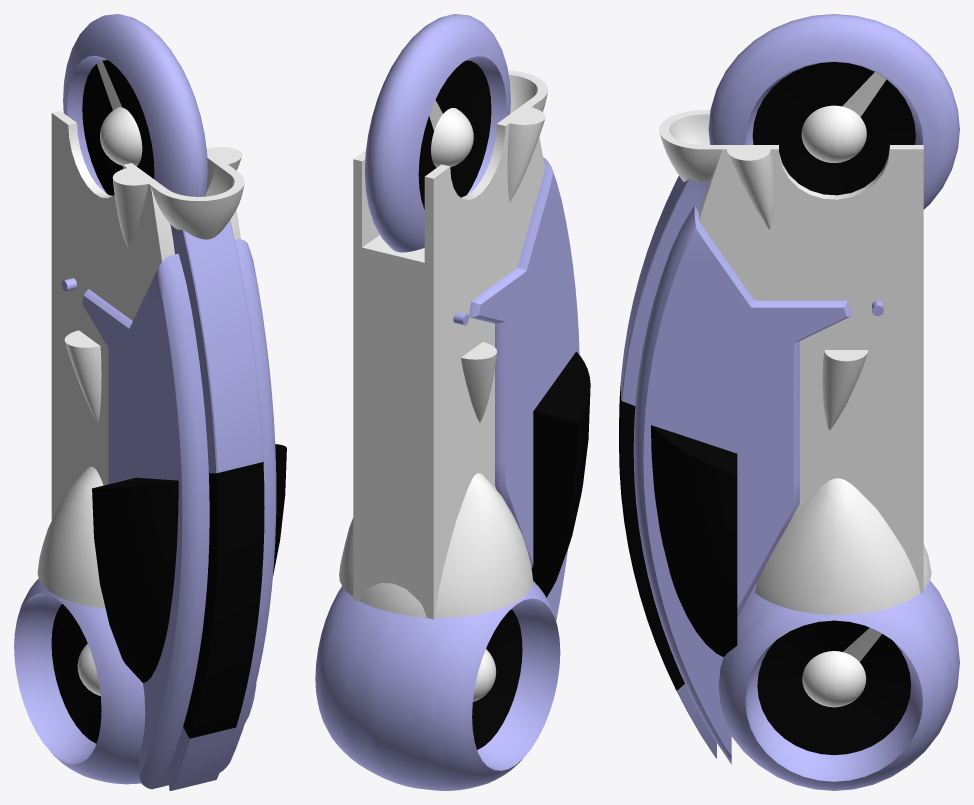
The model's file is lightcycle-ultra-high.fbx.
3 views of the same model, side by side, from view 1: azimuth 30°, elevation 25°; view 2: azimuth 150°, elevation 25°; view 3: azimuth 270°, elevation 25° (orthographic).
Visible parts, largest first — view 1: meshes[0]-54, meshes[0]-24, meshes[0]-12, meshes[0]-33, meshes[0]-0, meshes[0]-34, meshes[0]-35, meshes[0]-30, meshes[0]-32, meshes[0]-17, meshes[0]-5, meshes[0]-41 (+7 smaller); view 2: meshes[0]-24, meshes[0]-12, meshes[0]-54, meshes[0]-0, meshes[0]-30, meshes[0]-33, meshes[0]-32, meshes[0]-17, meshes[0]-5, meshes[0]-11, meshes[0]-7, meshes[0]-3; view 3: meshes[0]-24, meshes[0]-54, meshes[0]-12, meshes[0]-30, meshes[0]-0, meshes[0]-33, meshes[0]-7, meshes[0]-19, meshes[0]-32, meshes[0]-15, meshes[0]-43, meshes[0]-42 (+7 smaller).
Boxes of the visible parts, x1,y1,x2,y2 form: meshes[0]-54: (82,239,276,789); meshes[0]-24: (51,111,240,695); meshes[0]-12: (14,578,256,784); meshes[0]-33: (92,444,286,682); meshes[0]-0: (63,14,207,196); meshes[0]-34: (185,222,262,472); meshes[0]-35: (191,484,263,738); meshes[0]-30: (37,162,244,608); meshes[0]-32: (64,147,242,422); meshes[0]-17: (51,604,101,743); meshes[0]-5: (82,64,154,195); meshes[0]-41: (186,473,217,718); meshes[0]-24: (353,104,544,701); meshes[0]-12: (315,581,560,790); meshes[0]-54: (469,157,579,620); meshes[0]-0: (364,14,510,252); meshes[0]-30: (339,70,547,617); meshes[0]-33: (531,351,590,597); meshes[0]-32: (461,107,545,422); meshes[0]-17: (472,618,522,749); meshes[0]-5: (418,77,491,209); meshes[0]-11: (431,108,473,167); meshes[0]-7: (447,61,481,110); meshes[0]-3: (444,60,485,112); meshes[0]-24: (698,145,923,707); meshes[0]-54: (633,205,852,764); meshes[0]-12: (718,580,959,790); meshes[0]-30: (659,110,931,614); meshes[0]-0: (708,14,959,209); meshes[0]-33: (651,425,737,656); meshes[0]-7: (752,62,915,195); meshes[0]-19: (757,651,910,754); meshes[0]-32: (727,149,868,429); meshes[0]-15: (757,650,910,754); meshes[0]-43: (620,422,684,690); meshes[0]-42: (622,181,708,405).
Bounding box in the file's own units: 2.51 × 9.87 × 4.01.
